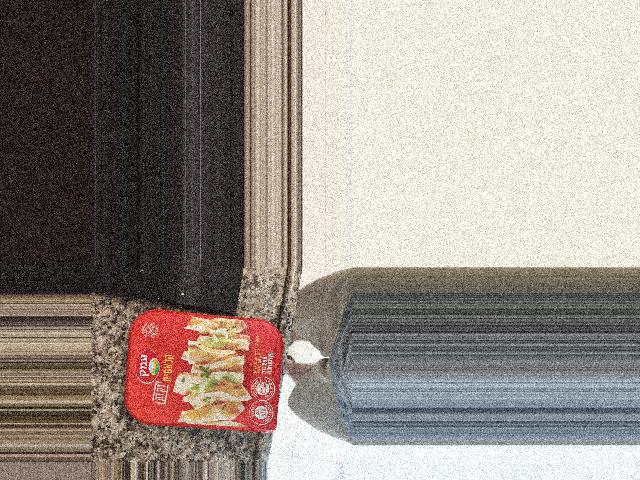cheese: (128, 311, 285, 436)
